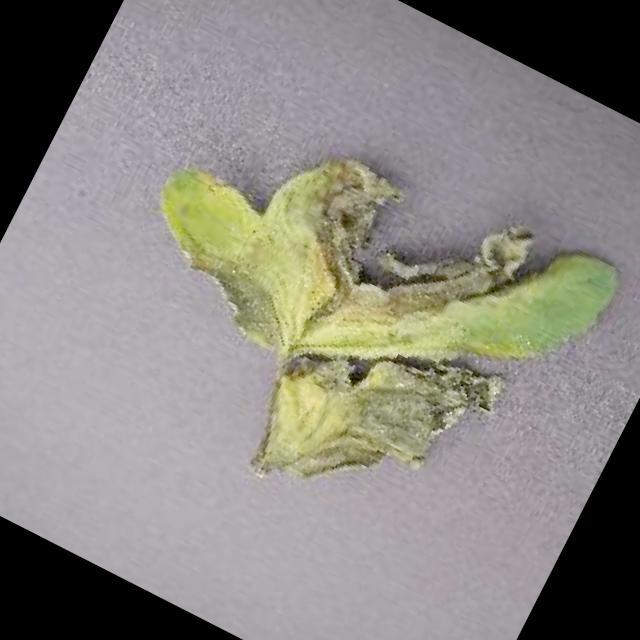Tomato late blight leaf: (64, 62, 629, 584)
